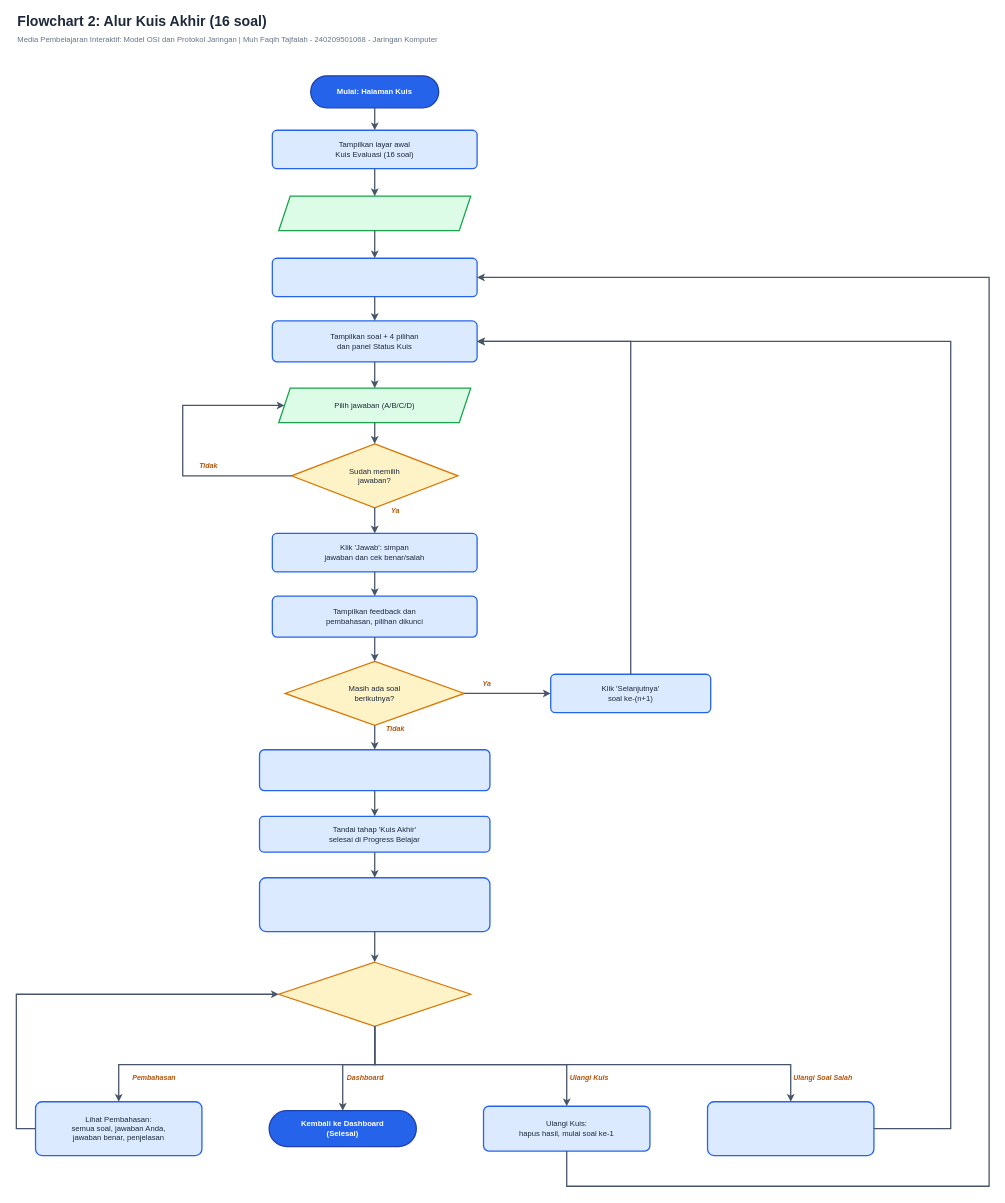
This 1005x1203 diagram has some shape labels left out. The box of each missing label's shape, as (x1, y1, x2, y2) in pixels:
Hitung benar, salah, dan nilai = benar/jumlah soal x 100: (259, 749, 490, 791)
Inisialisasi kuis: soal ke-1, jawaban kosong: (271, 257, 477, 297)
Klik 'Mulai Kuis': (278, 195, 471, 231)
Pilih tindakan di halaman hasil: (278, 961, 471, 1027)
Tampilkan 'Quiz Selesai!': nilai, benar, salah, persentase + rekomendasi belajar: (259, 877, 490, 932)
Ulangi Soal Salah (hanya jika ada jawaban salah): (707, 1101, 874, 1156)
